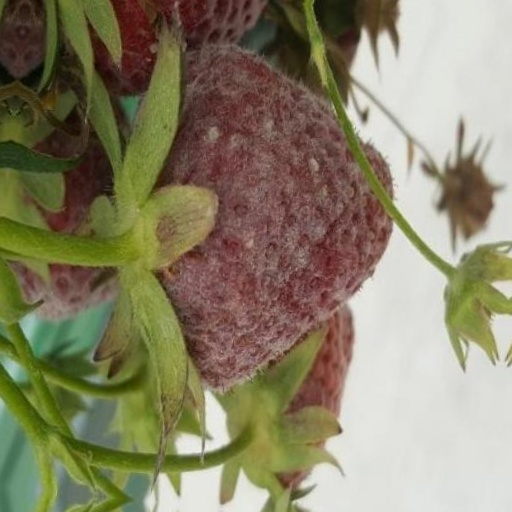Powdery Mildew Fruit: (115, 17, 390, 400), (9, 79, 126, 338), (20, 0, 246, 109)
